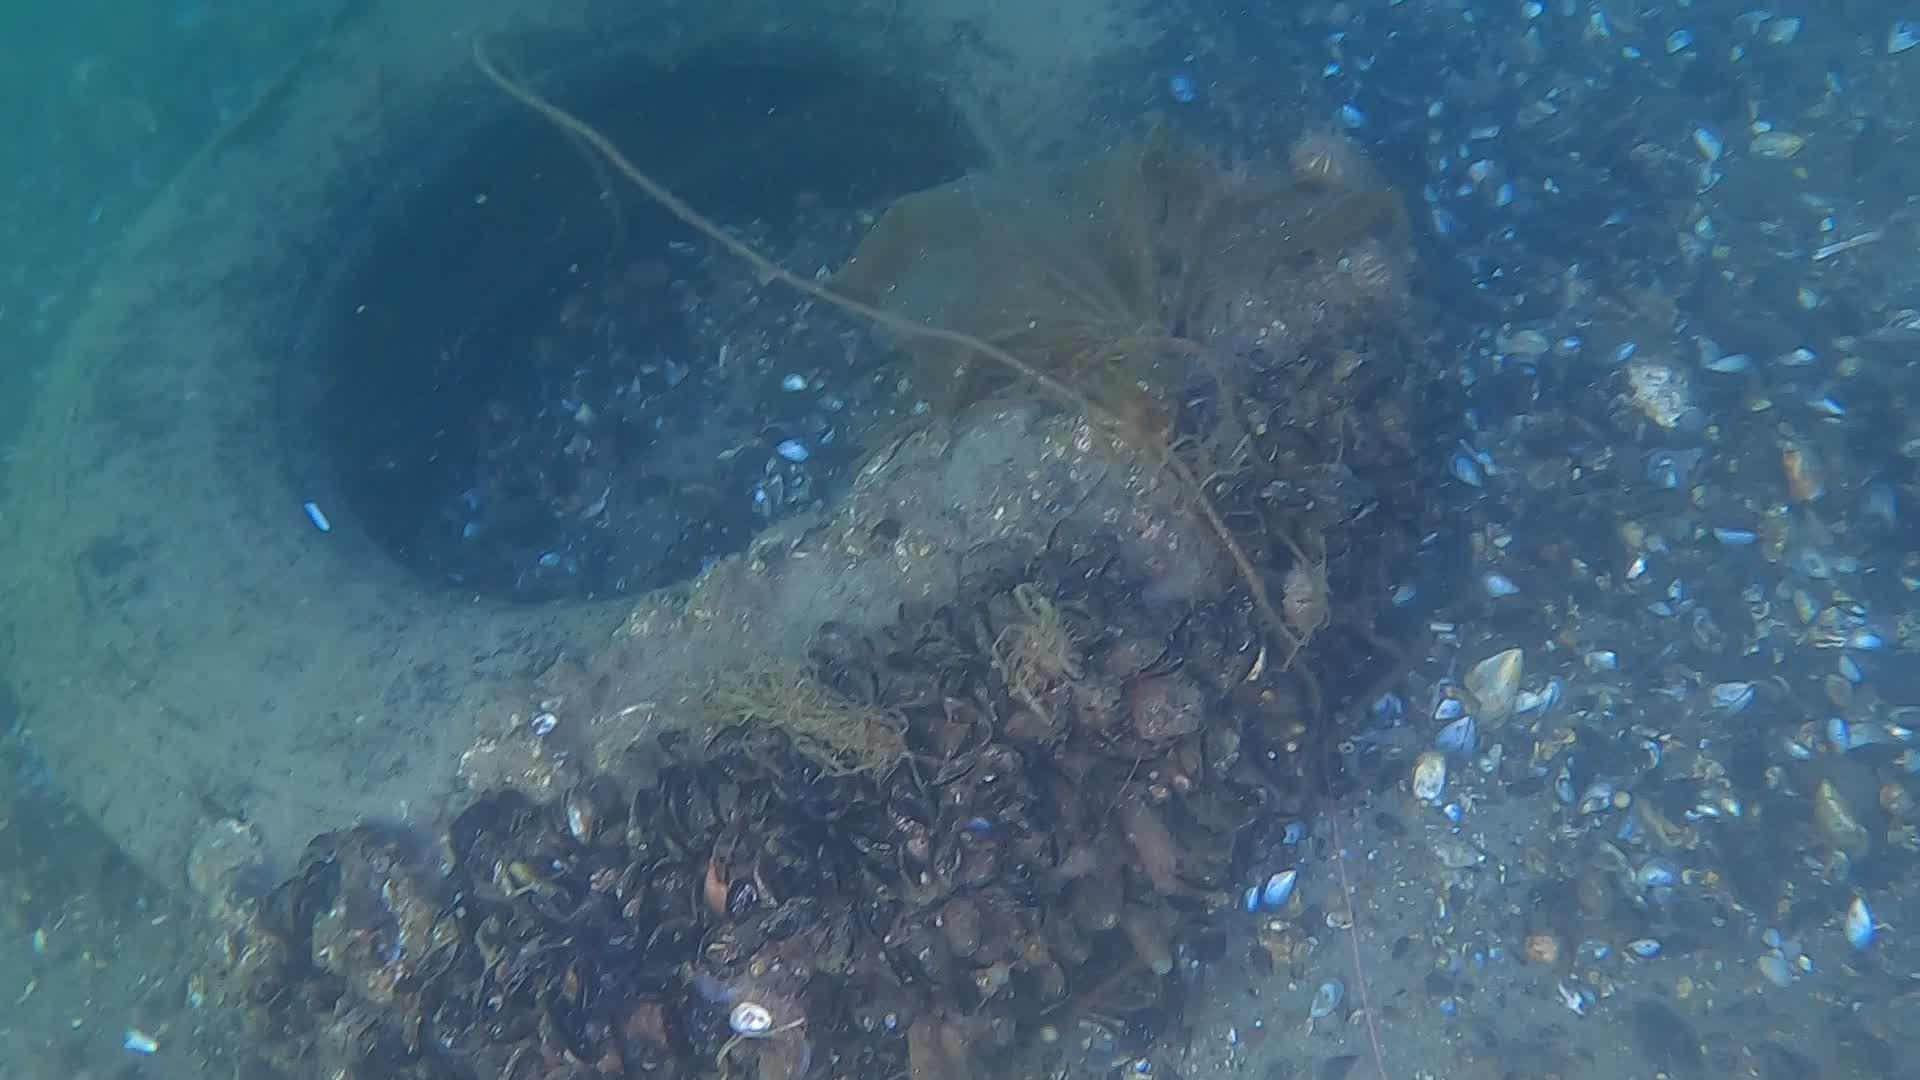tire: (1, 3, 1069, 909)
